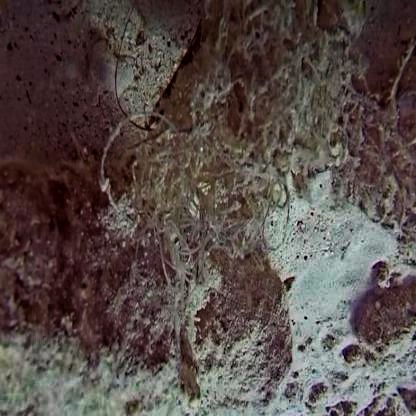net: (136, 23, 348, 260)
